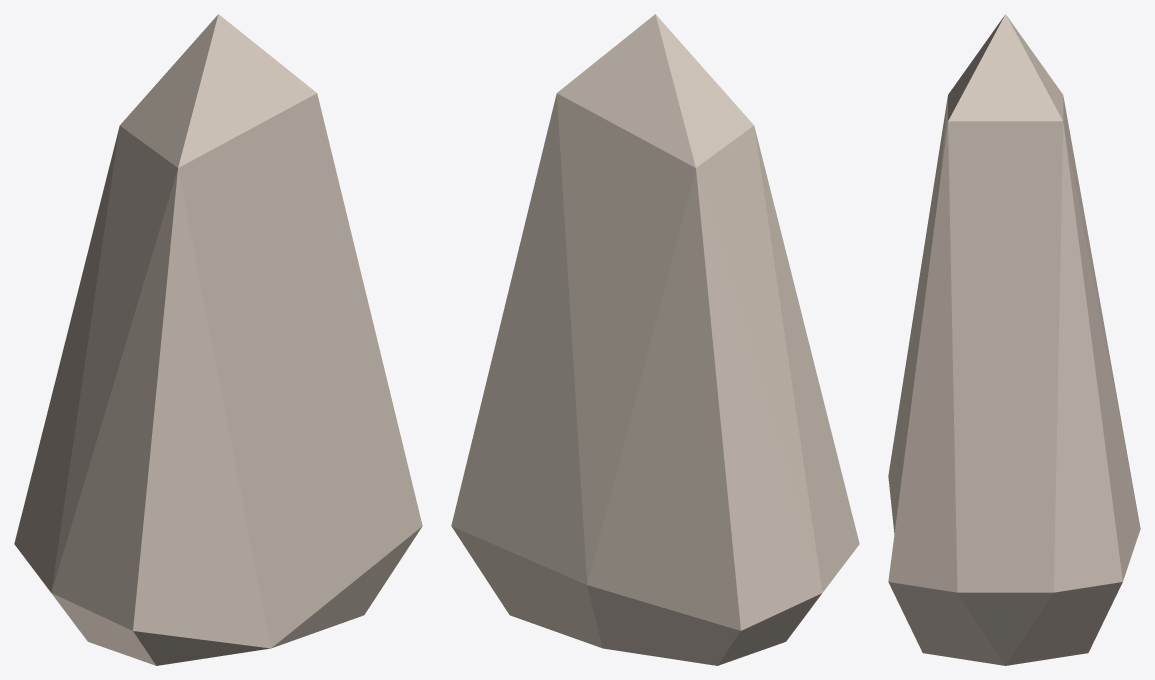
Rendered from stone_02.obj.
3 views of the same model, side by side, from view 1: azimuth 30°, elevation 25°; view 2: azimuth 150°, elevation 25°; view 3: azimuth 270°, elevation 25° (orthographic).
Visible parts, largest first — view 1: Stone_02; view 2: Stone_02; view 3: Stone_02.
Part boxes in pixels (x1,y1,x2,y2): Stone_02: (14, 14, 422, 665); Stone_02: (451, 14, 859, 665); Stone_02: (888, 14, 1140, 665).
Size of the model in its own units: 7.43 by 12.66 by 4.92.
